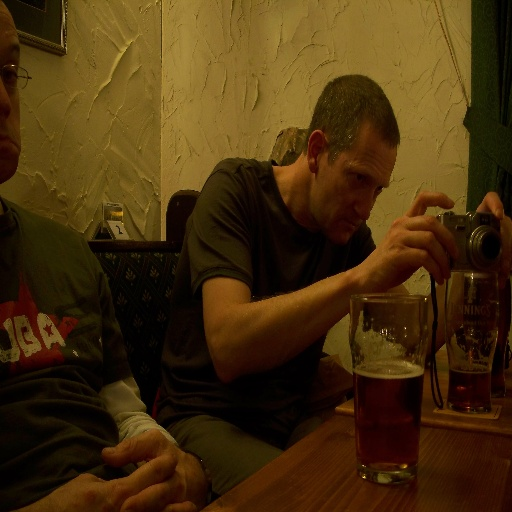hand: (360, 188, 462, 293), (16, 450, 180, 511), (475, 189, 511, 282)
